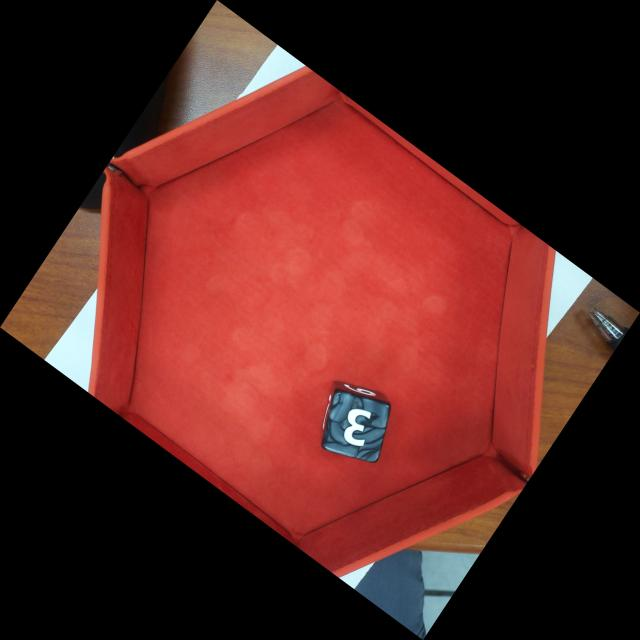dice: (320, 389, 393, 464)
